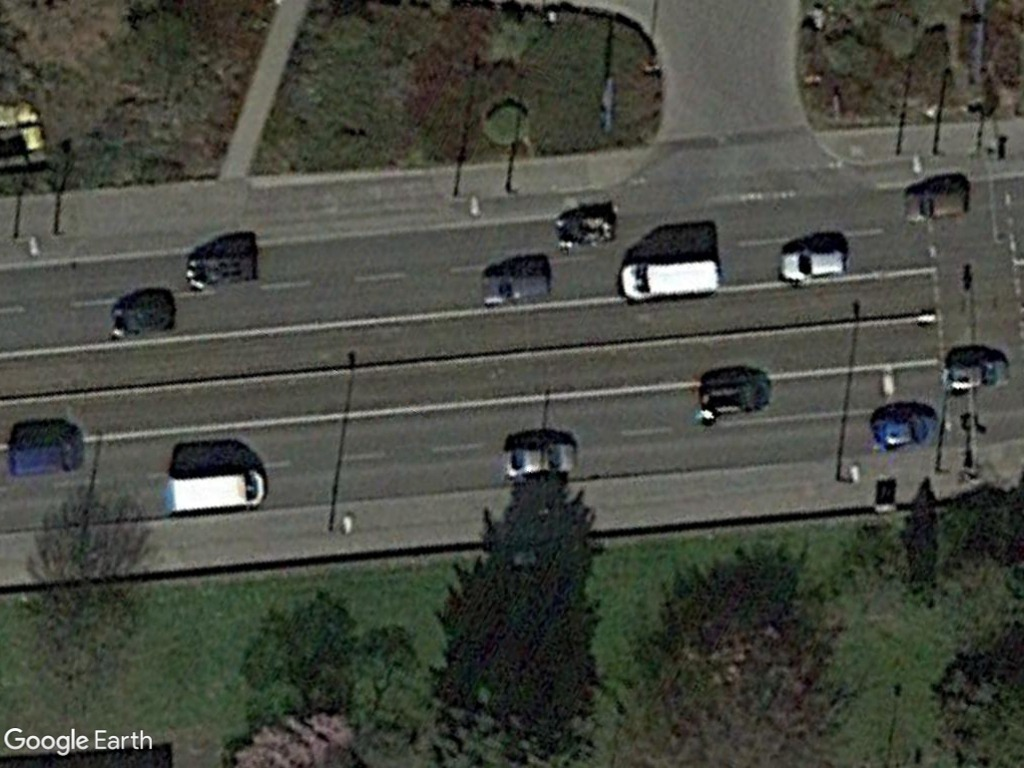car: (498, 438, 578, 480), (479, 268, 555, 309), (899, 183, 969, 227), (775, 245, 850, 286)
van: (162, 466, 268, 518), (615, 256, 722, 303)
